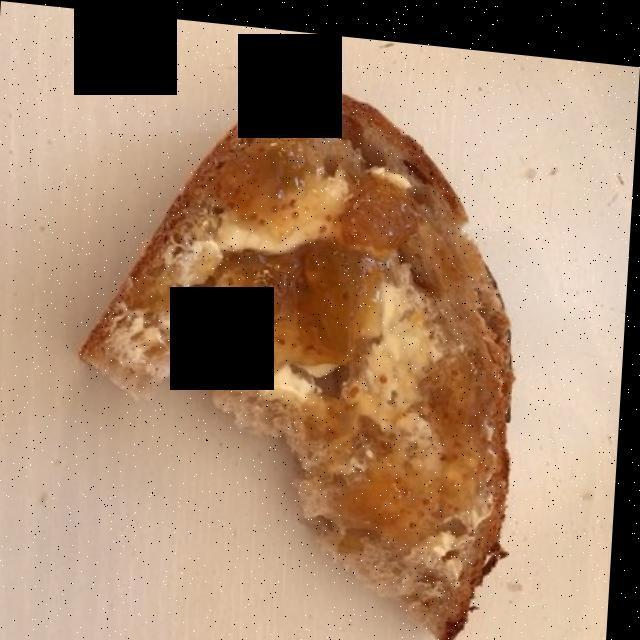bread: (93, 87, 511, 620)
butter: (230, 180, 467, 551)
jam: (206, 142, 498, 546)
